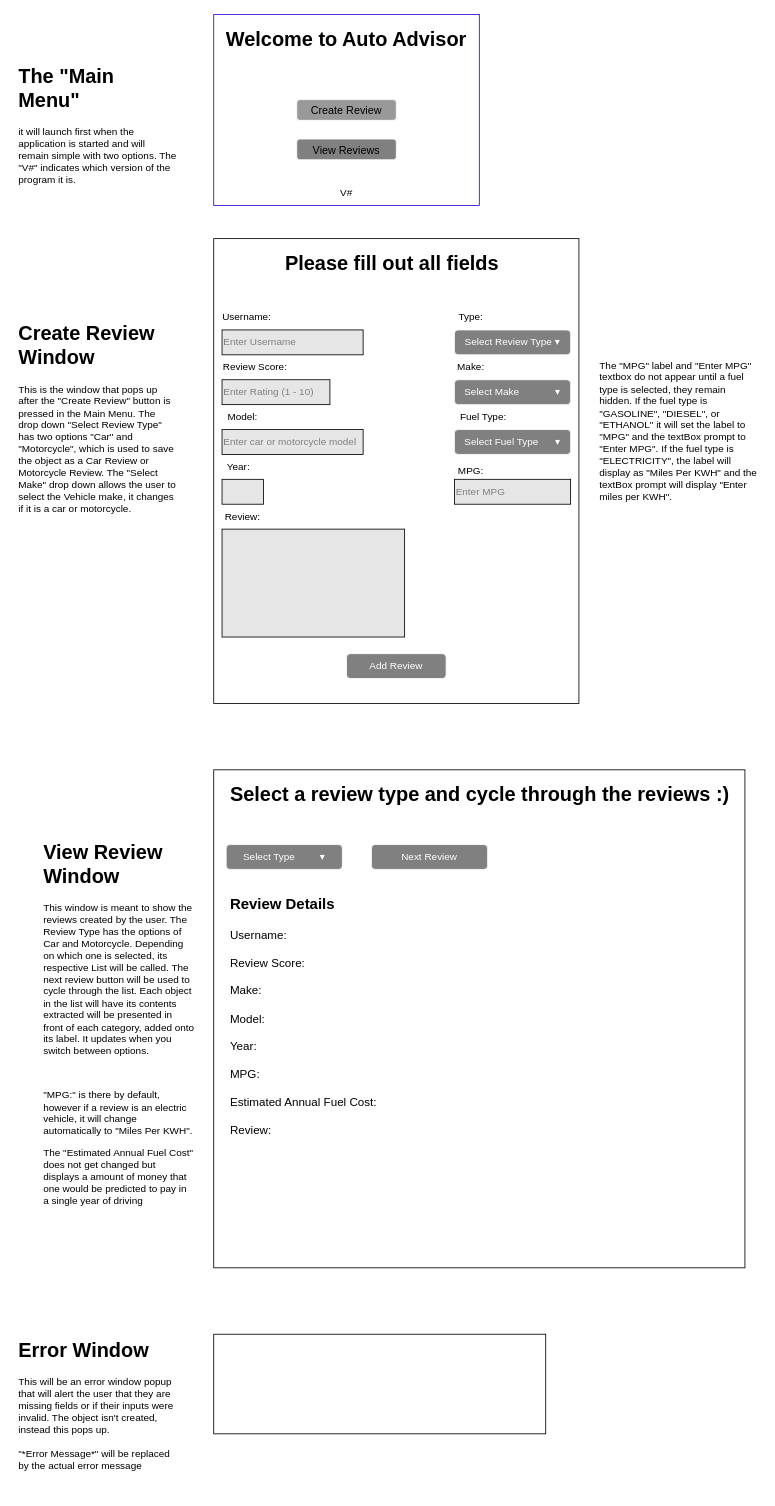
The diagram is 775 pixels wide and 1506 high, and some of its shapes have lost their labels. Each missing label, with the box of its shape:
*Error Message*: (213, 1333, 546, 1434)
Type your review: (221, 528, 405, 637)
Year: (221, 478, 264, 504)
